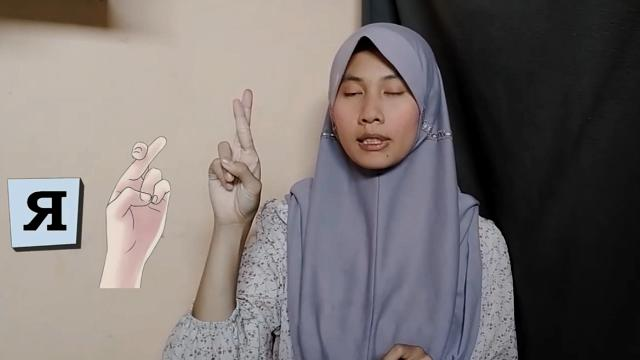R: (205, 88, 262, 222)
